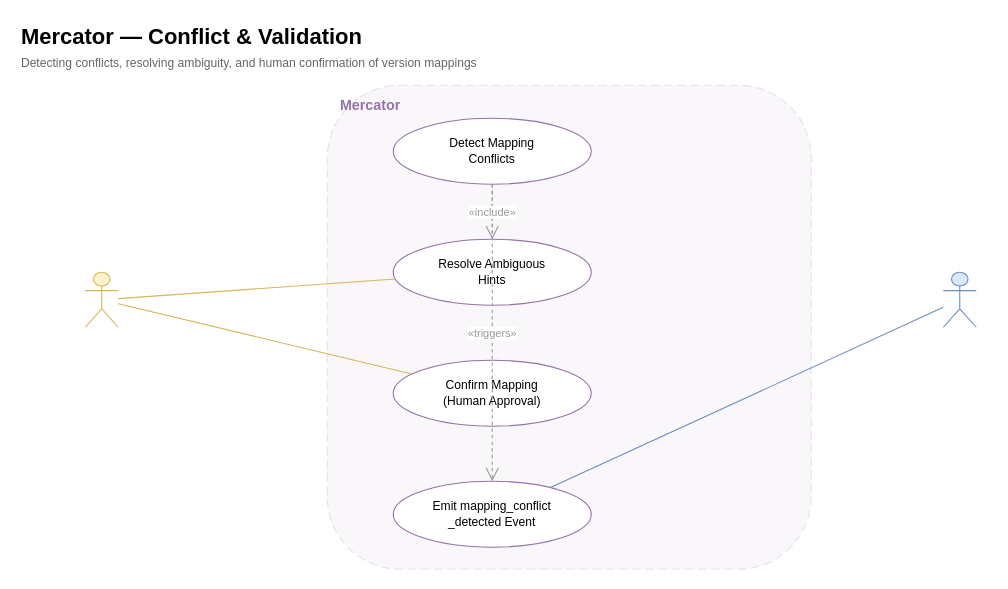
Image size: 1008x589. Some labels were removed from this diagram. The centre of each missing label's shape, as x and y in pixels:
"Engineer" belongs at point (101, 299).
"Event Bus" belongs at point (959, 299).
